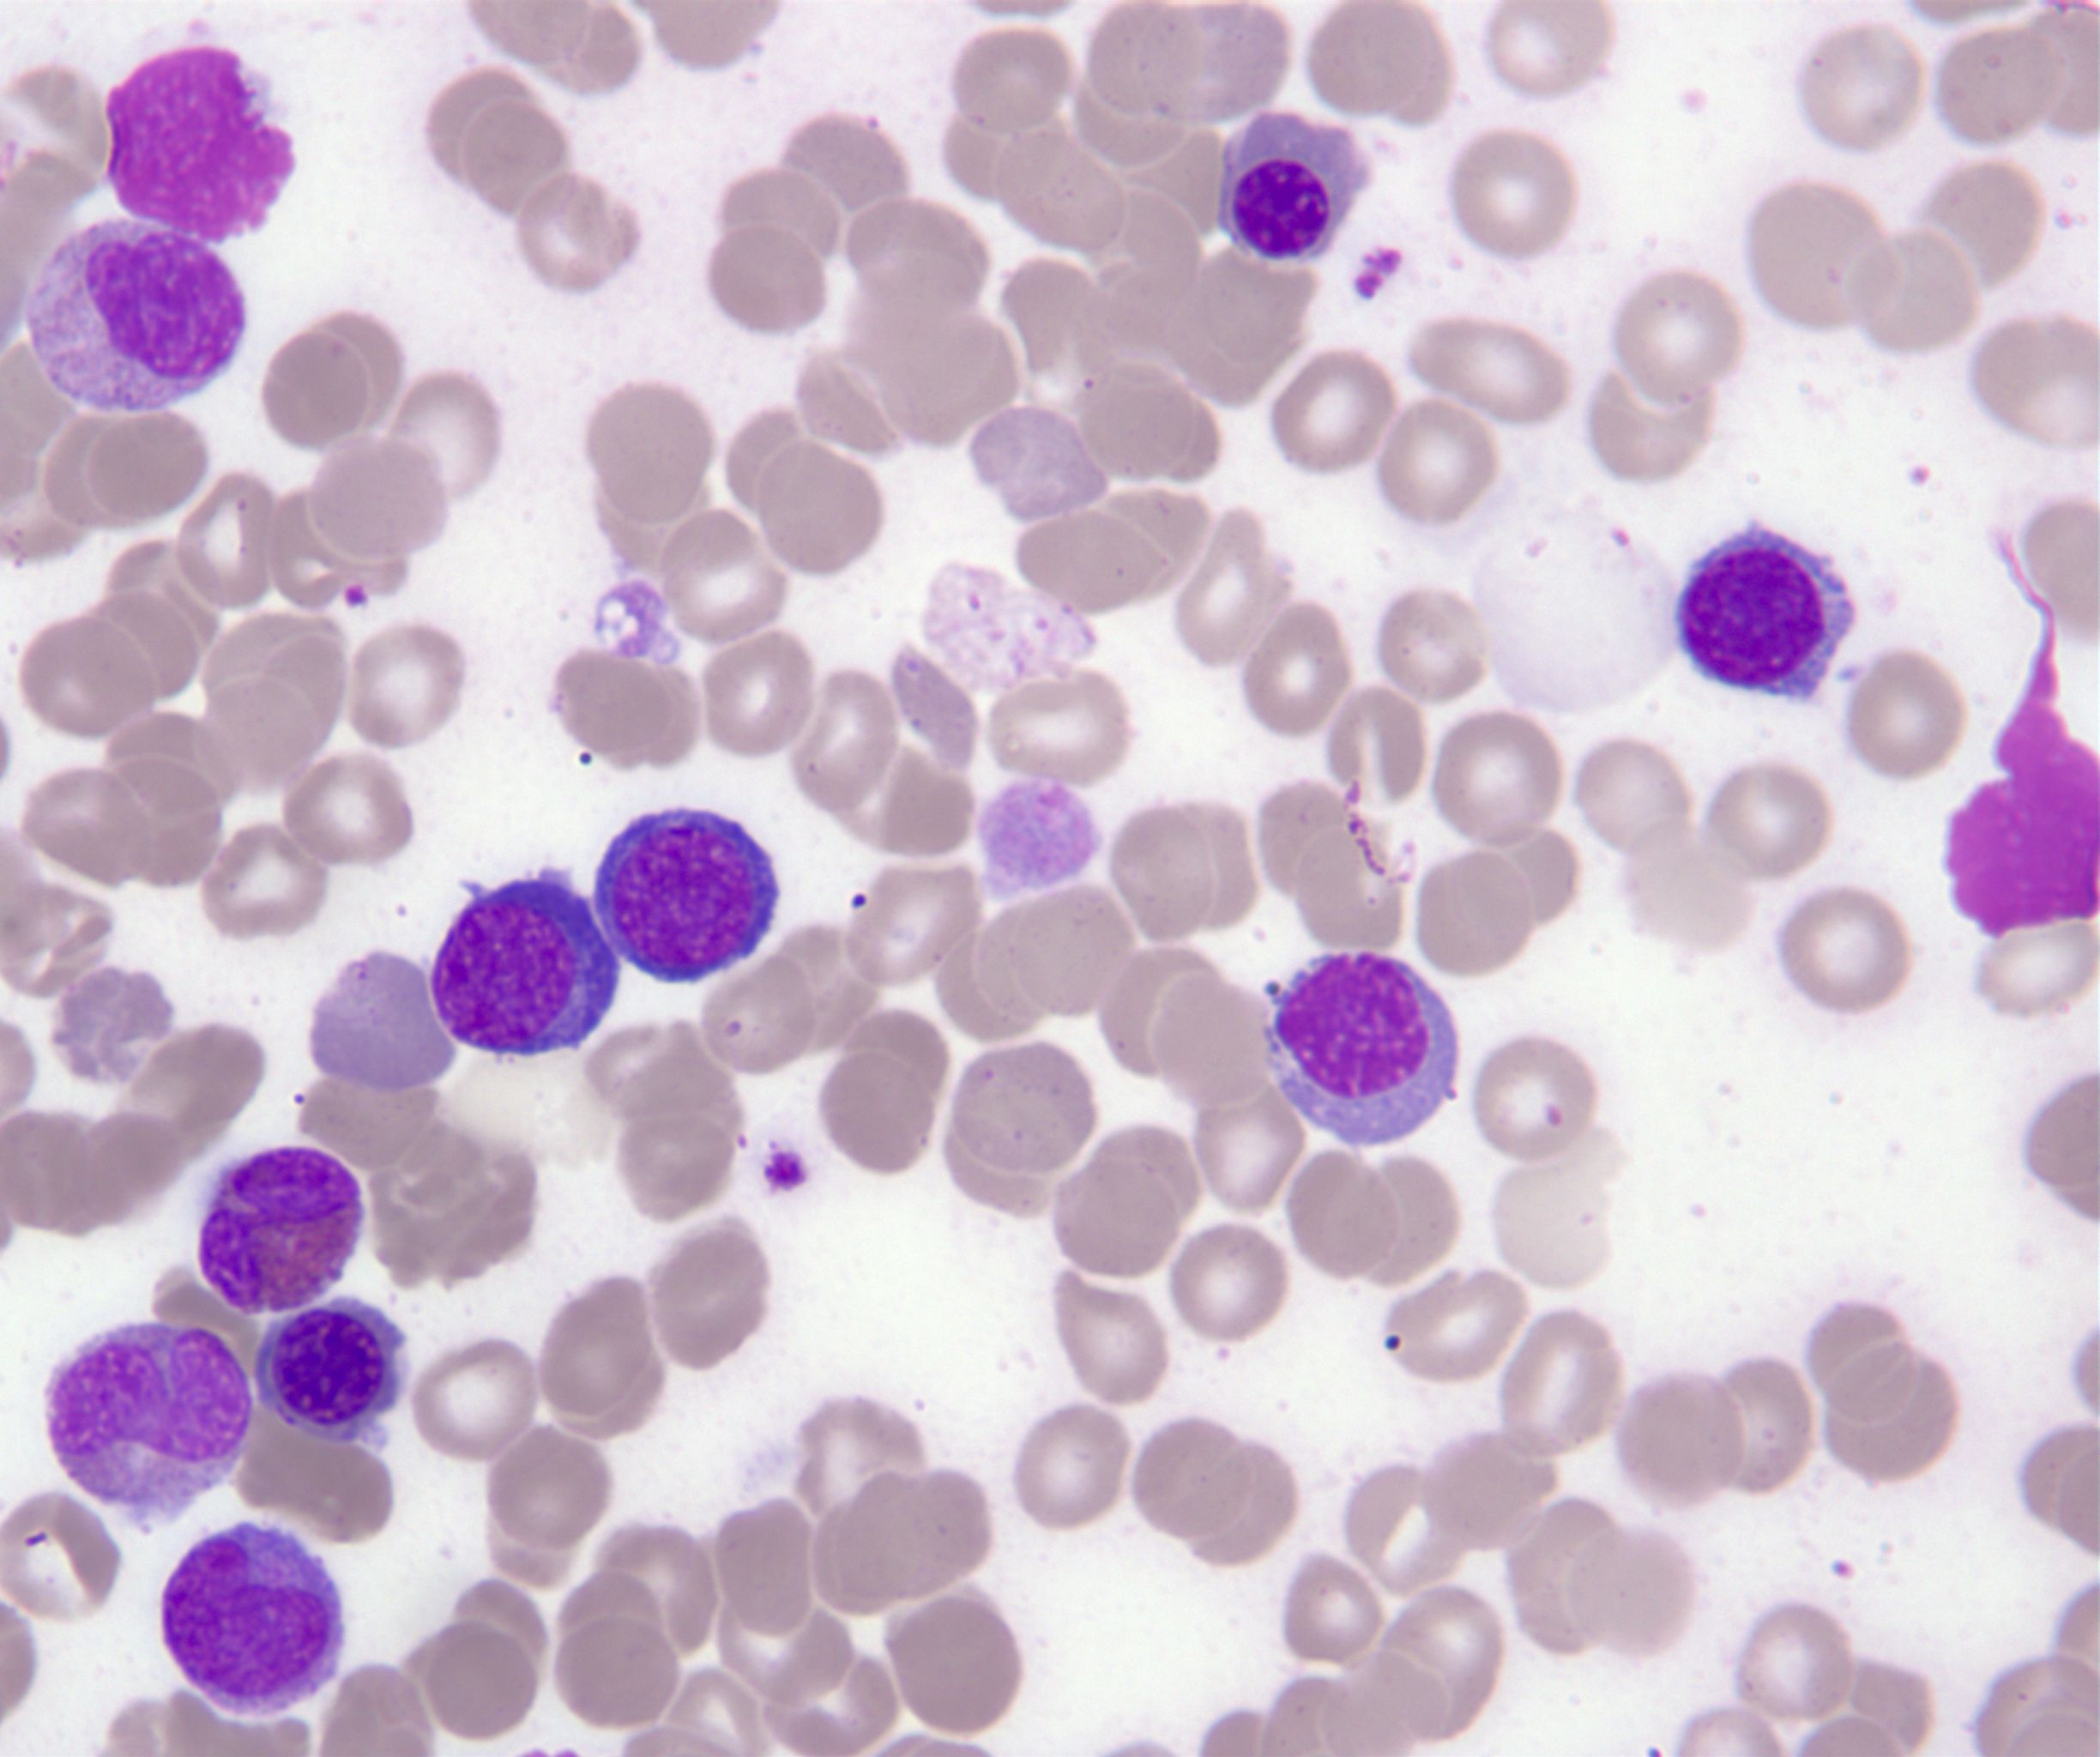22: (429, 865, 623, 1056), (595, 811, 778, 981)
23: (1268, 953, 1456, 1150), (1678, 527, 1858, 698), (255, 1296, 408, 1448), (1217, 112, 1367, 263)
42: (164, 1532, 344, 1717)
5: (26, 220, 244, 414), (51, 1321, 255, 1527)
x: (1948, 518, 2100, 939), (105, 49, 295, 248), (201, 1150, 361, 1312)
